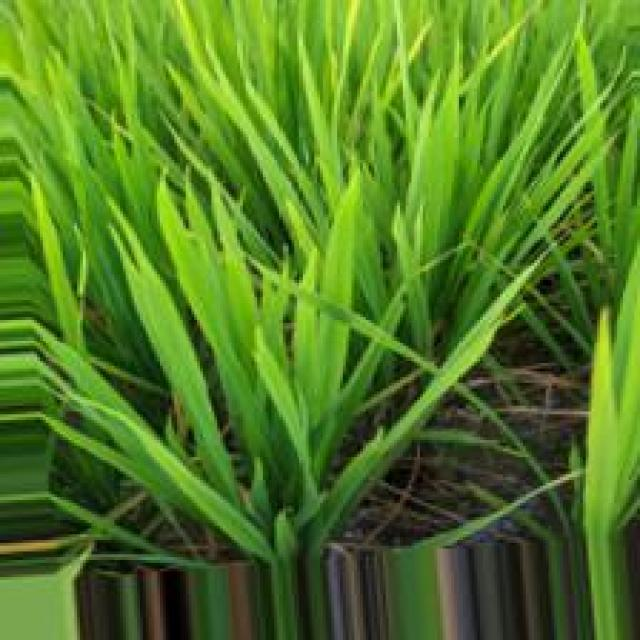HealthyLeaf: (101, 196, 233, 490), (582, 240, 640, 640)
